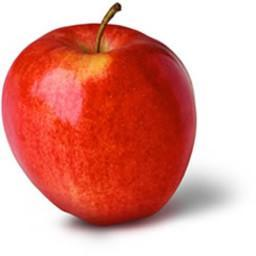apple: (3, 17, 199, 226)
